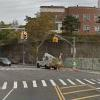Crosswalk: (5, 67, 91, 97)
